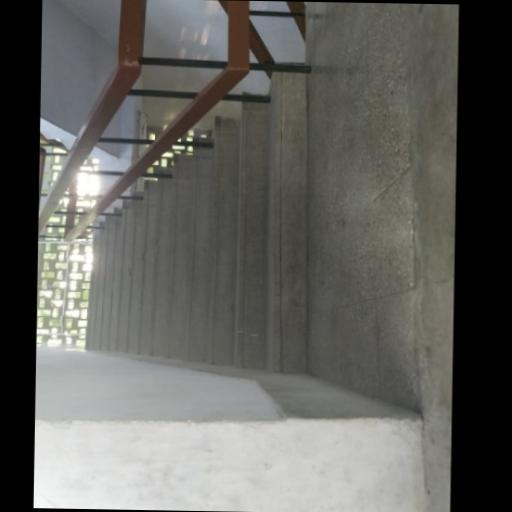stairs: (87, 72, 307, 373)
